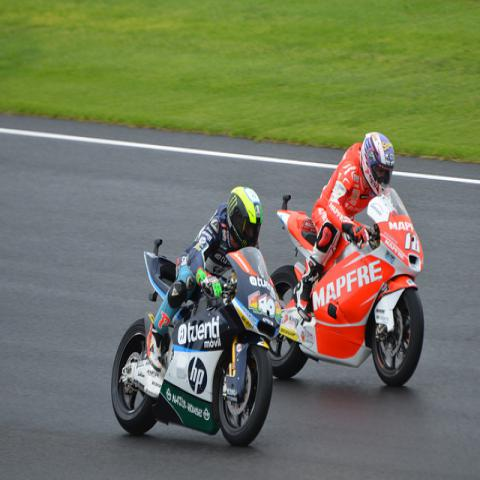motorcycle: (266, 184, 426, 388), (114, 247, 280, 441)
